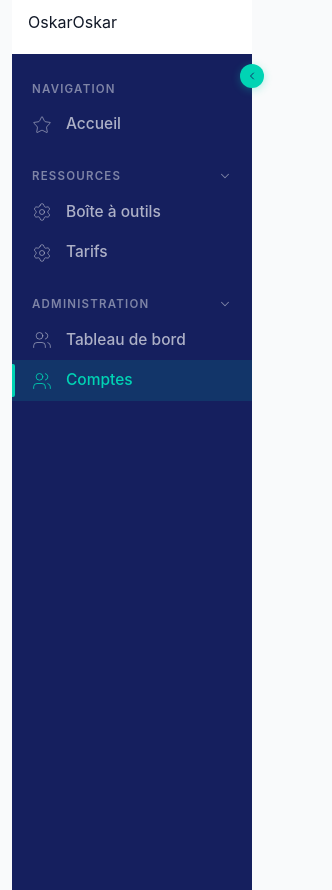
Sections rabattables du menu › rabat une section et retient le choix
This screenshot has width=332, height=890.
Click the button "Ressources". click: (132, 172)
box: [12,153,252,192]
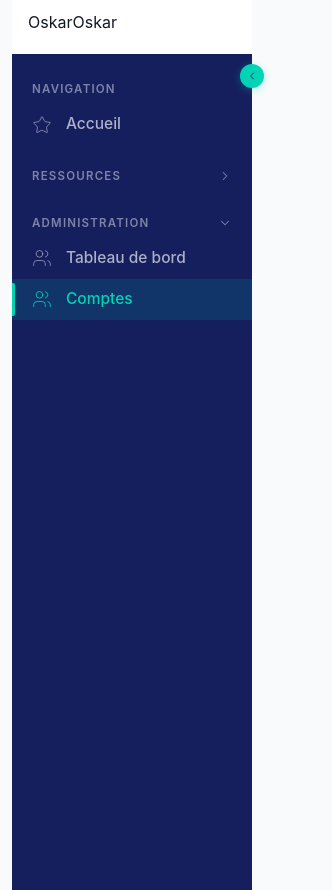
Now the link "Tarifs" is gone
Click the button "Ressources". click: (132, 172)
box: [12,153,252,192]
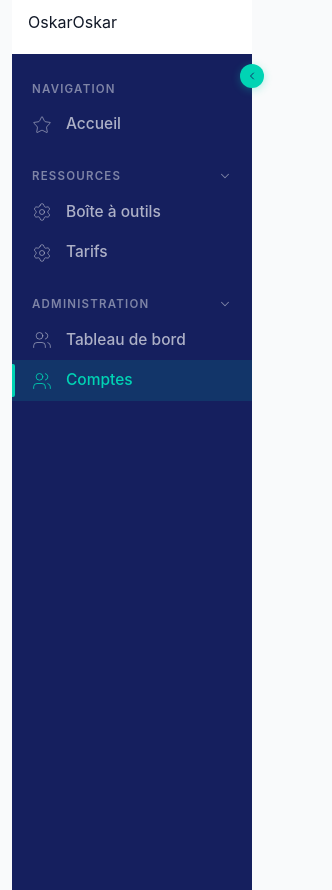
Now the link "Tarifs" is shown, box [32,242,108,263]
